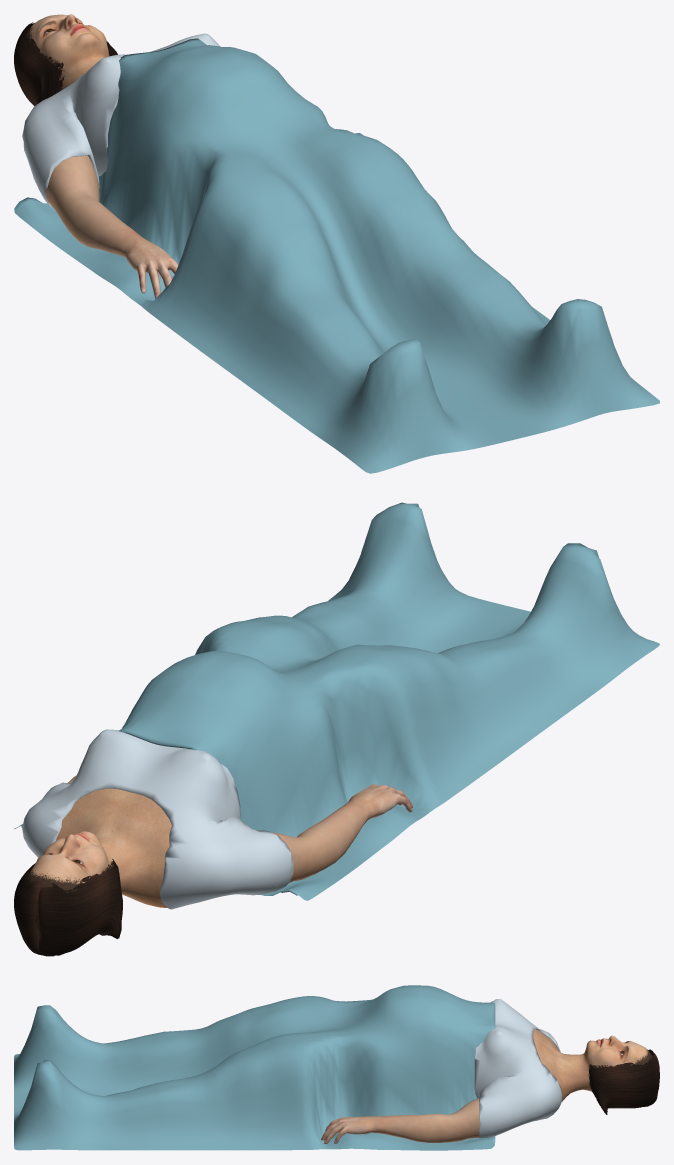
3 views of the same model, one above another, from view 1: azimuth 30°, elevation 25°; view 2: azimuth 150°, elevation 25°; view 3: azimuth 270°, elevation 25° (orthographic). The views are drawn at different scales.
Parts seen in each view (by area): view 1: sheet, gown, arms, body, hair; view 2: sheet, gown, body, hair, arms; view 3: sheet, gown, arms, body, hair.
Part boxes in pixels (x1=…): sheet: x1=14, y1=38, x2=659, y2=473; gown: x1=22, y1=33, x2=219, y2=210; arms: x1=46, y1=155, x2=178, y2=298; body: x1=25, y1=14, x2=109, y2=90; hair: x1=14, y1=22, x2=117, y2=105; sheet: x1=14, y1=502, x2=659, y2=900; gown: x1=22, y1=729, x2=293, y2=909; body: x1=26, y1=788, x2=171, y2=935; hair: x1=14, y1=858, x2=122, y2=956; arms: x1=68, y1=775, x2=412, y2=883; sheet: x1=14, y1=985, x2=495, y2=1150; gown: x1=474, y1=999, x2=562, y2=1138; arms: x1=321, y1=1098, x2=479, y2=1143; body: x1=533, y1=1029, x2=652, y2=1102; hair: x1=588, y1=1049, x2=659, y2=1114.
Bounding box in the file's own units: 0.6398 × 0.3416 × 1.81.
Materials: 8 (6 with a texture image).
